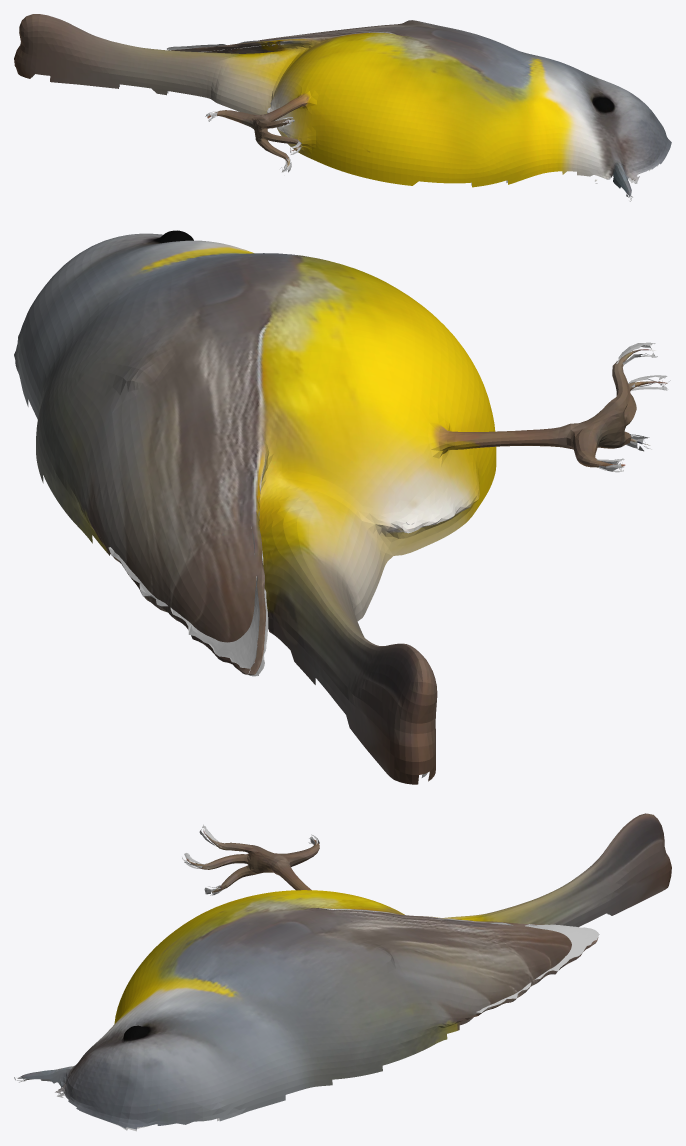
Rendered from unknown.glb.
The picture shows the model from 3 angles, top to bottom: view 1: azimuth 30°, elevation 25°; view 2: azimuth 150°, elevation 25°; view 3: azimuth 270°, elevation 25°; orthographic projection. The views are drawn at different scales.
Visible parts, largest first — view 1: model, model.001; view 2: model, model.001; view 3: model, model.001.
Boxes of the visible parts, left/top/right/bottom form: model: left=14, top=14, right=671, bottom=197; model.001: left=32, top=40, right=658, bottom=201; model: left=14, top=230, right=667, bottom=784; model.001: left=108, top=342, right=670, bottom=777; model: left=17, top=813, right=671, bottom=1129; model.001: left=14, top=824, right=608, bottom=1131.
Size of the model in its own units: 1.68 by 0.3773 by 1.9.
2 materials, 1 textured.
